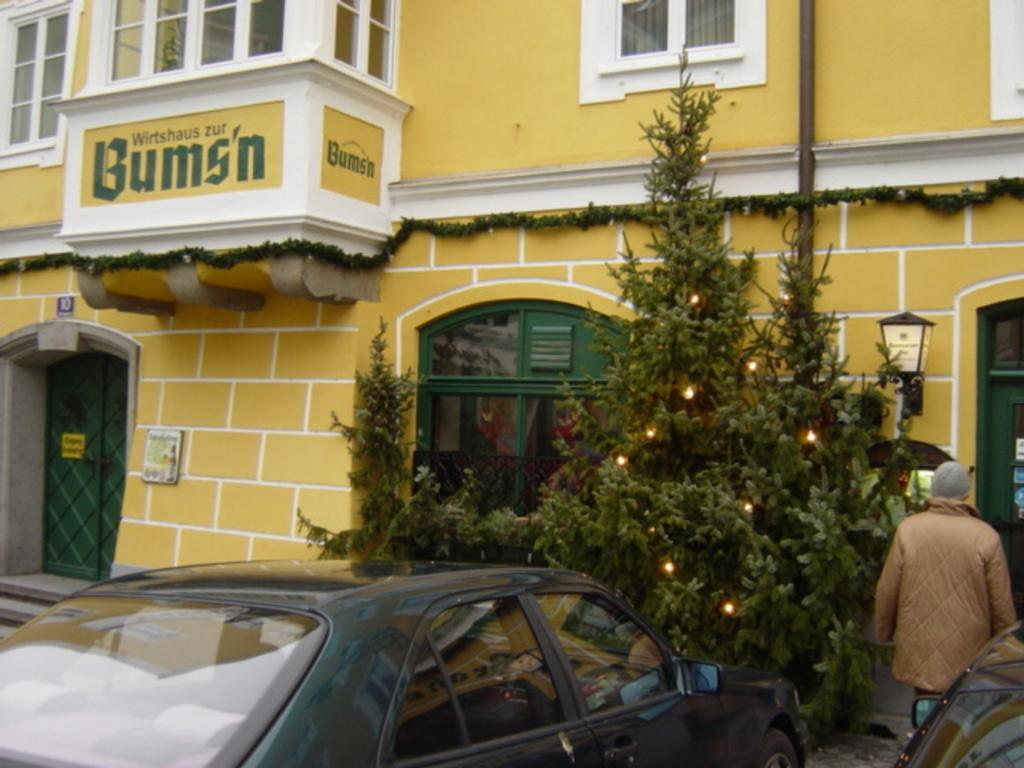Car: (40, 554, 792, 768), (890, 614, 1022, 766)
